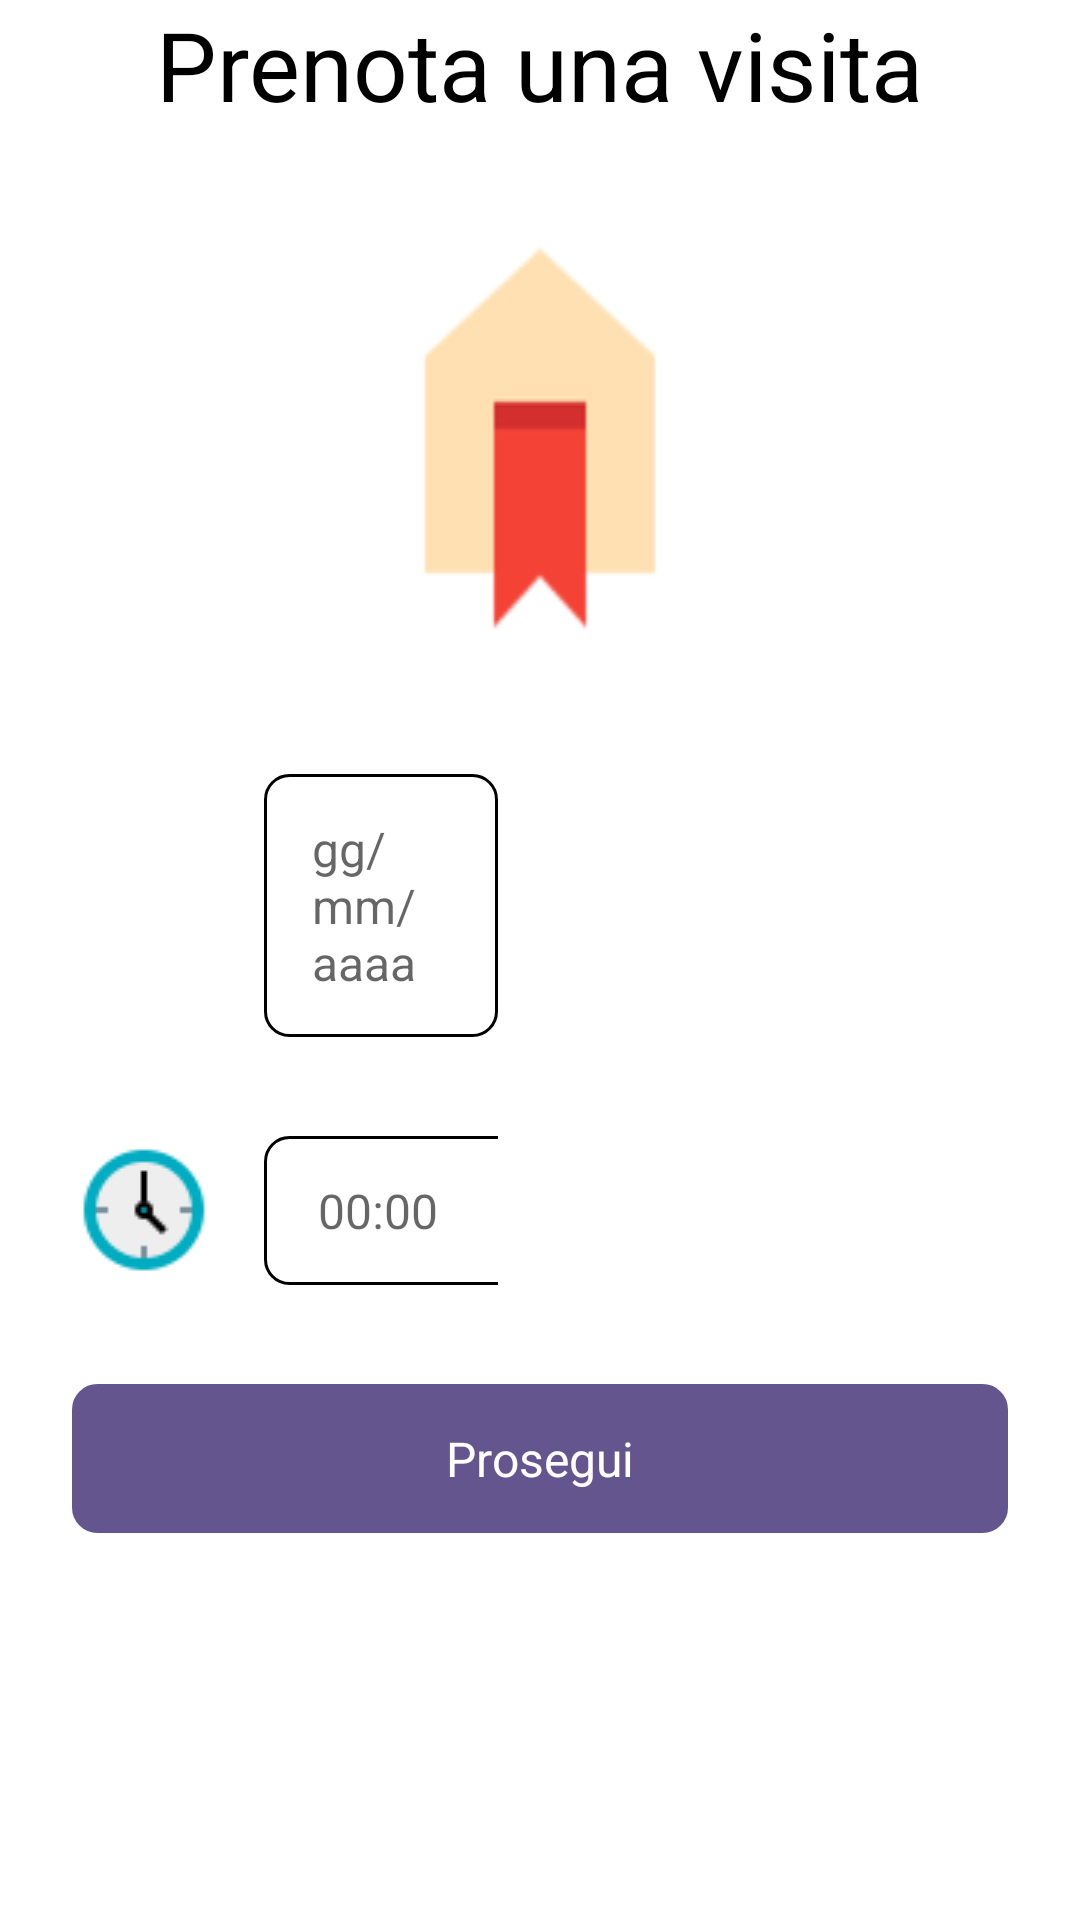

Icon bounding boxes for this 1080 x 1920 phone screenshot, format BBox(x1, y1, x2, y2):
clock: BBox(83, 1149, 205, 1271)
